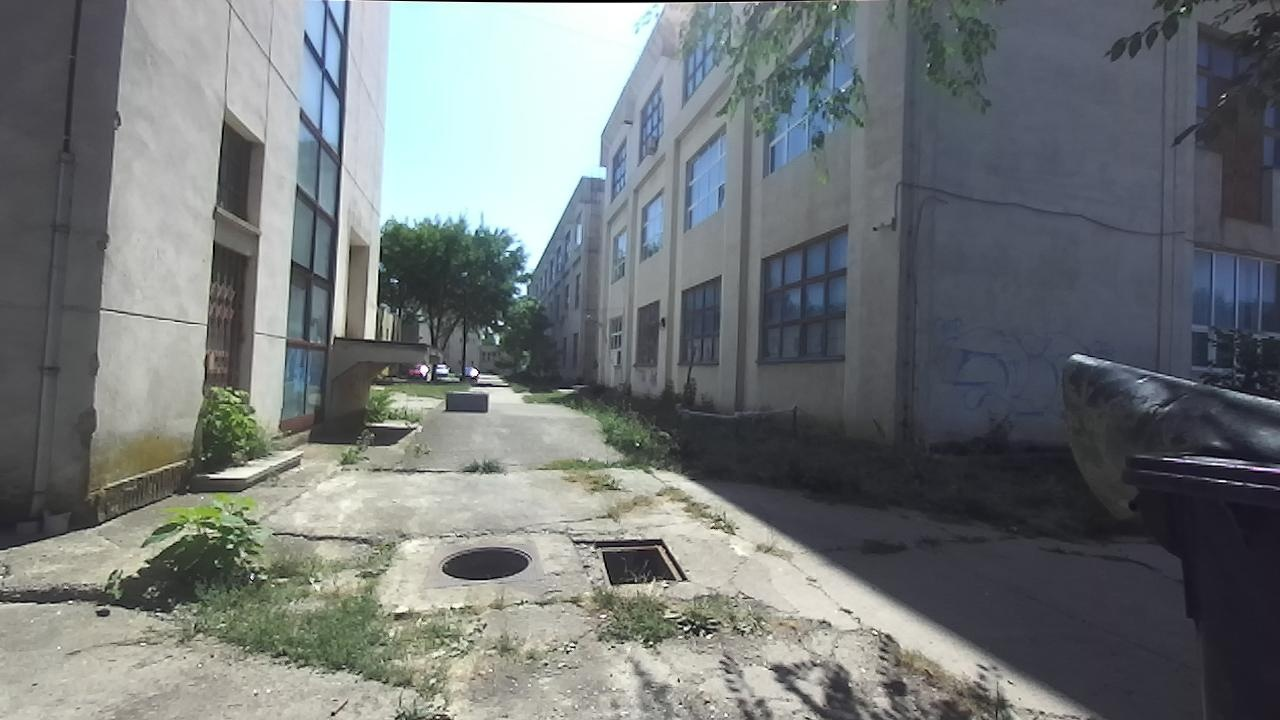drain: (589, 536, 692, 588), (431, 542, 536, 582)
